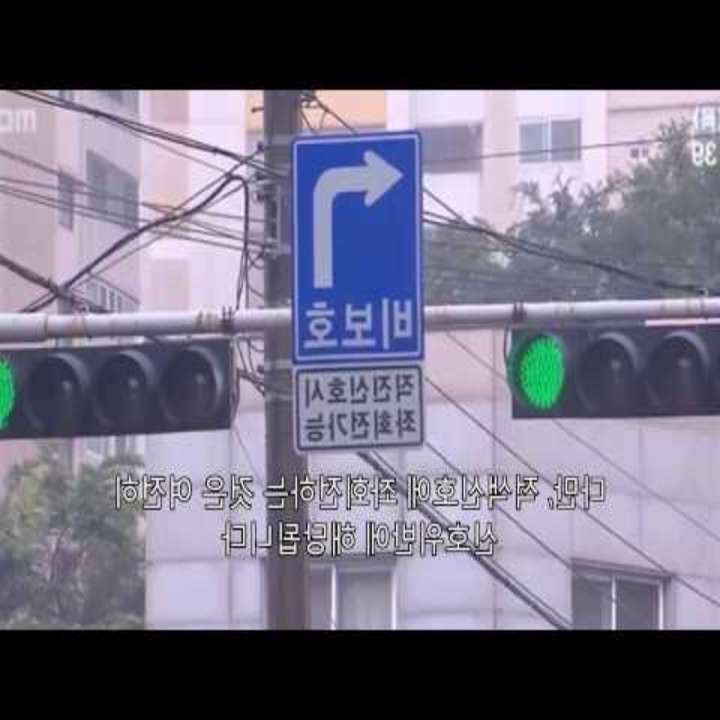right: (309, 145, 408, 290)
